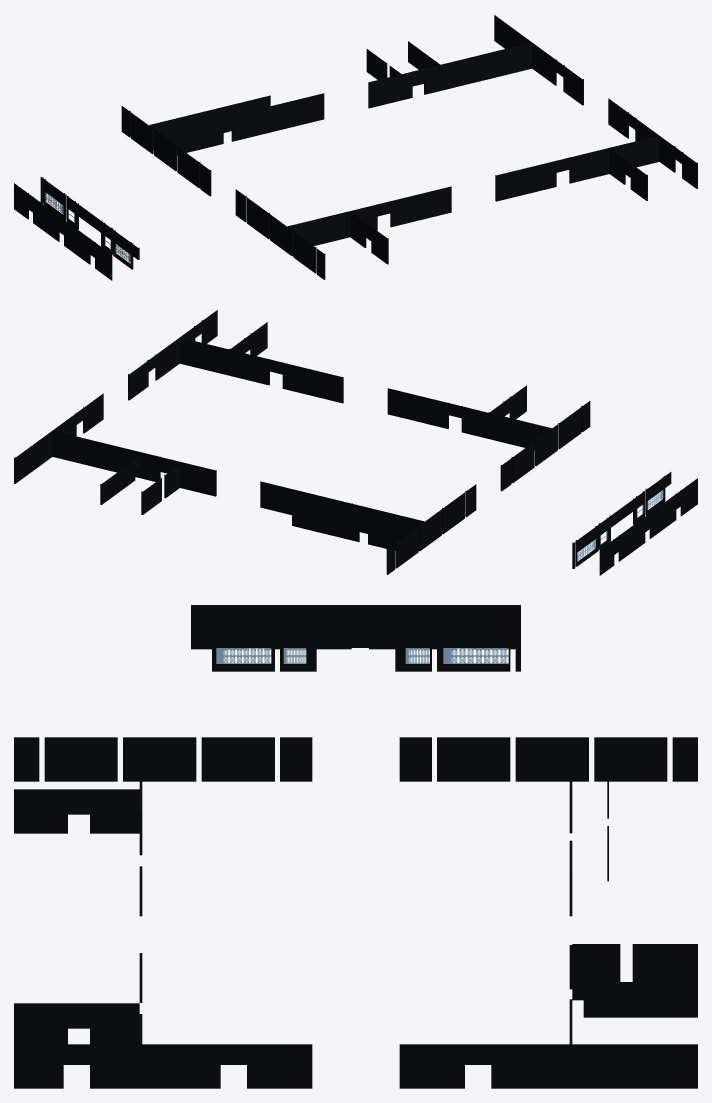
The model's file is tt_struct_f2_walls.glb.
3 views of the same model, one above another, from view 1: azimuth 30°, elevation 25°; view 2: azimuth 150°, elevation 25°; view 3: azimuth 270°, elevation 25° (orthographic). The views are drawn at different scales.
Visible parts, largest first — view 1: Walls_F2; view 2: Walls_F2; view 3: Walls_F2, Gallery_Window_Scissor.
Boxes of the visible parts, x1,y1,x2,y2 form: Walls_F2: (14, 15, 697, 280); Walls_F2: (14, 310, 697, 575); Walls_F2: (14, 605, 697, 1088); Gallery_Window_Scissor: (216, 648, 508, 663).
Size of what is drawn, in the model's own units: 119 by 5.61 by 78.4.
2 materials, 2 textured.
